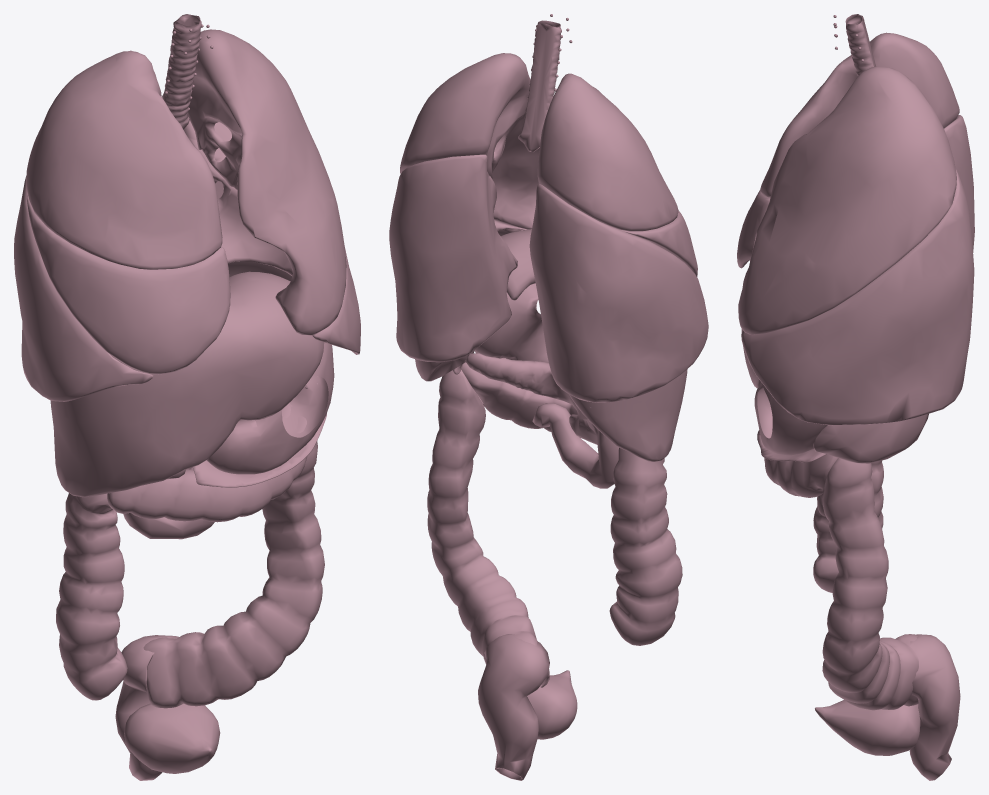
The model's file is organ.plain.glb.
The picture shows the model from 3 angles, left to right: view 1: azimuth 30°, elevation 25°; view 2: azimuth 150°, elevation 25°; view 3: azimuth 270°, elevation 25°; orthographic projection. The views are drawn at different scales.
Visible parts, largest first — view 1: Superior lobe of right lung.001, Liver.001, Superior lobe of left lung.001, Descending colon.001, Middle lobe of right lung.001, Ascending colon.001, Inferior lobe of right lung.001, Stomach.001, Transverse colon.001, Inferior lobe of left lung.001, Urinary bladder.001, Trachea.001 (+3 smaller); view 2: Inferior lobe of right lung.001, Inferior lobe of left lung.001, Superior lobe of right lung.001, Descending colon.001, Superior lobe of left lung.001, Ascending colon.001, Sigmoid colon.001, Liver.001, Duodenum.001, Trachea.001, Pancreas.001, Stomach.001 (+4 smaller); view 3: Superior lobe of left lung.001, Inferior lobe of left lung.001, Descending colon.001, Superior lobe of right lung.001, Sigmoid colon.001, Urinary bladder.001, Spleen.001, Stomach.001, Ascending colon.001, Transverse colon.001, Inferior lobe of right lung.001, Trachea.001 (+2 smaller).
Boxes of the visible parts, <box> form: Superior lobe of right lung.001: <box>26,50,222,269</box>; Liver.001: <box>50,271,324,497</box>; Superior lobe of left lung.001: <box>188,29,346,335</box>; Descending colon.001: <box>143,441,324,708</box>; Middle lobe of right lung.001: <box>26,195,230,374</box>; Ascending colon.001: <box>56,493,127,700</box>; Inferior lobe of right lung.001: <box>14,175,153,401</box>; Stomach.001: <box>206,342,334,474</box>; Transverse colon.001: <box>107,404,307,522</box>; Inferior lobe of left lung.001: <box>183,120,360,354</box>; Urinary bladder.001: <box>124,703,220,773</box>; Trachea.001: <box>162,14,201,129</box>; Inferior lobe of right lung.001: <box>529,184,708,402</box>; Inferior lobe of left lung.001: <box>389,154,526,362</box>; Superior lobe of right lung.001: <box>537,73,678,231</box>; Descending colon.001: <box>427,370,549,687</box>; Superior lobe of left lung.001: <box>400,53,539,229</box>; Ascending colon.001: <box>609,447,682,645</box>; Sigmoid colon.001: <box>478,634,549,780</box>; Liver.001: <box>501,229,687,461</box>; Duodenum.001: <box>532,403,618,488</box>; Trachea.001: <box>518,20,561,152</box>; Pancreas.001: <box>465,353,597,444</box>; Stomach.001: <box>474,283,548,362</box>; Superior lobe of left lung.001: <box>738,66,956,334</box>; Inferior lobe of left lung.001: <box>741,169,974,425</box>; Descending colon.001: <box>822,458,918,710</box>; Superior lobe of right lung.001: <box>760,32,959,197</box>; Sigmoid colon.001: <box>909,634,960,780</box>; Urinary bladder.001: <box>815,700,920,755</box>; Spleen.001: <box>813,414,928,463</box>; Stomach.001: <box>754,383,827,455</box>; Ascending colon.001: <box>813,460,883,592</box>; Transverse colon.001: <box>764,454,837,497</box>; Inferior lobe of right lung.001: <box>750,115,974,260</box>; Trachea.001: <box>845,14,875,76</box>.
Bounding box in the file's own units: 0.2609 × 0.6566 × 0.1857.
